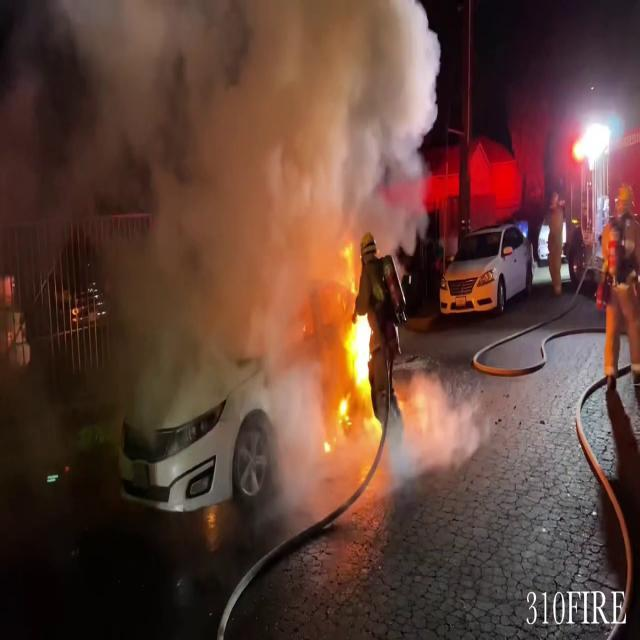Fire: (332, 242, 376, 412)
Smoke: (2, 1, 442, 426)
